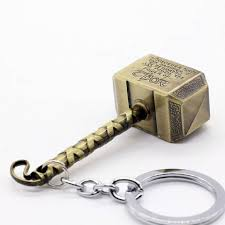THOR Hammer: (30, 46, 211, 185)
